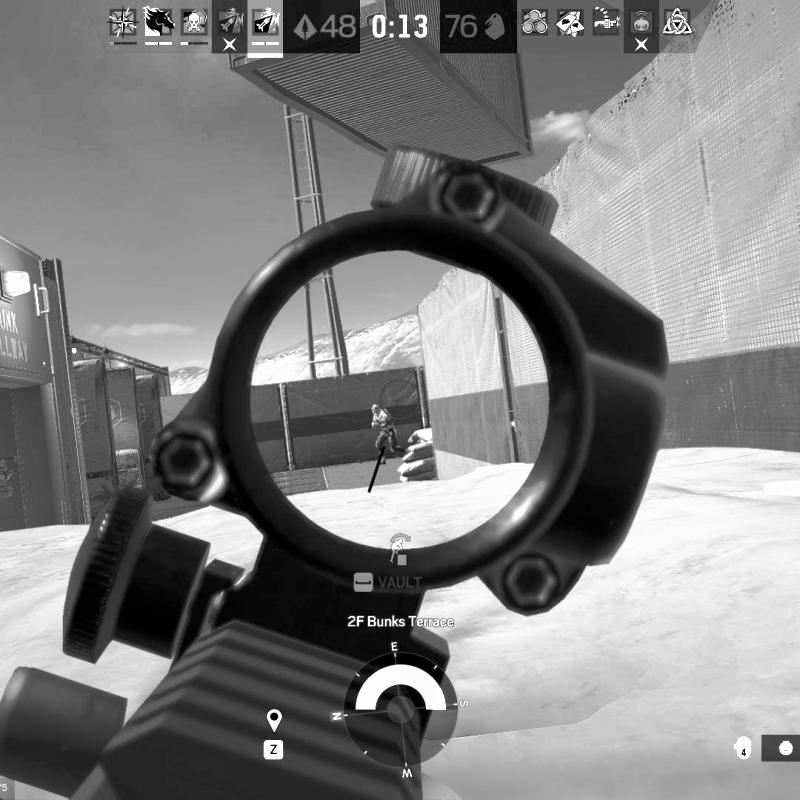Character: (370, 403, 408, 466)
Head: (371, 403, 382, 415)
